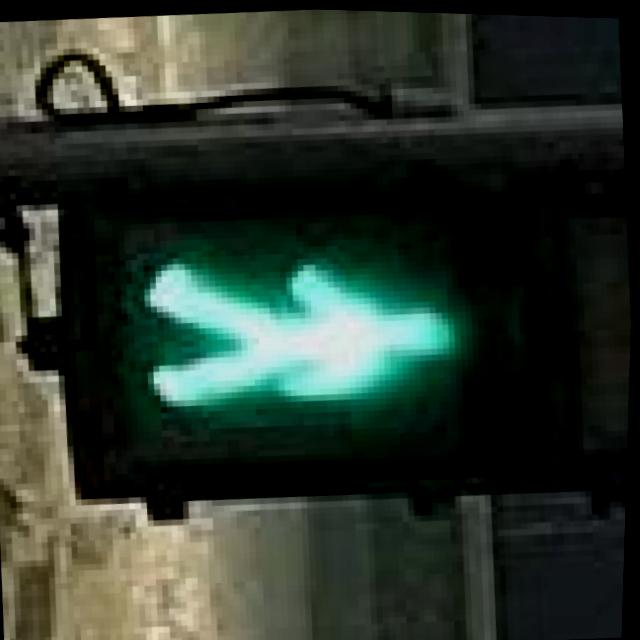green_light: (93, 165, 544, 483)
